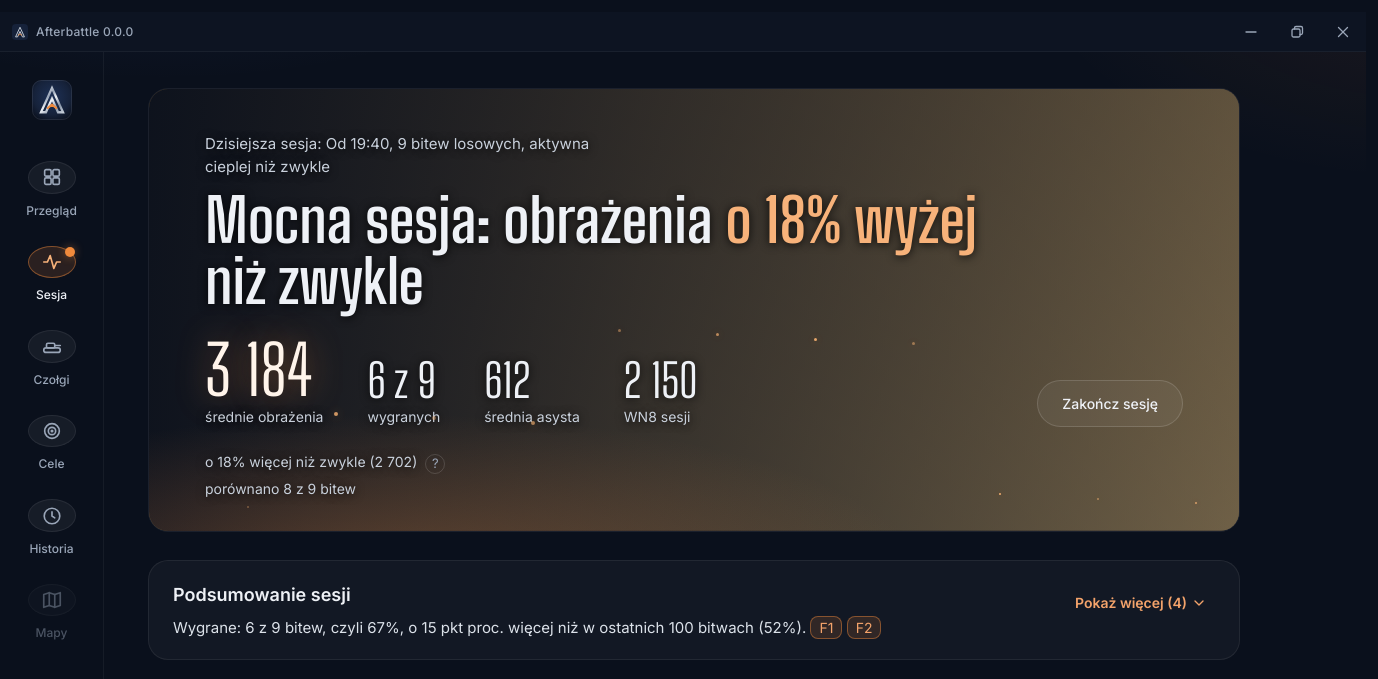
Session screen › shows only the first sentence until 'Pokaż więcej (N)' opens the rest (spec 31 §3)
The width and height of the screenshot is (1378, 679).
Expected: the element with class "recap-first" shows "9 bitew", [173,618,806,636]
Click the button "Pokaż więcej (4)": (1141, 602) [1067,580,1215,624]
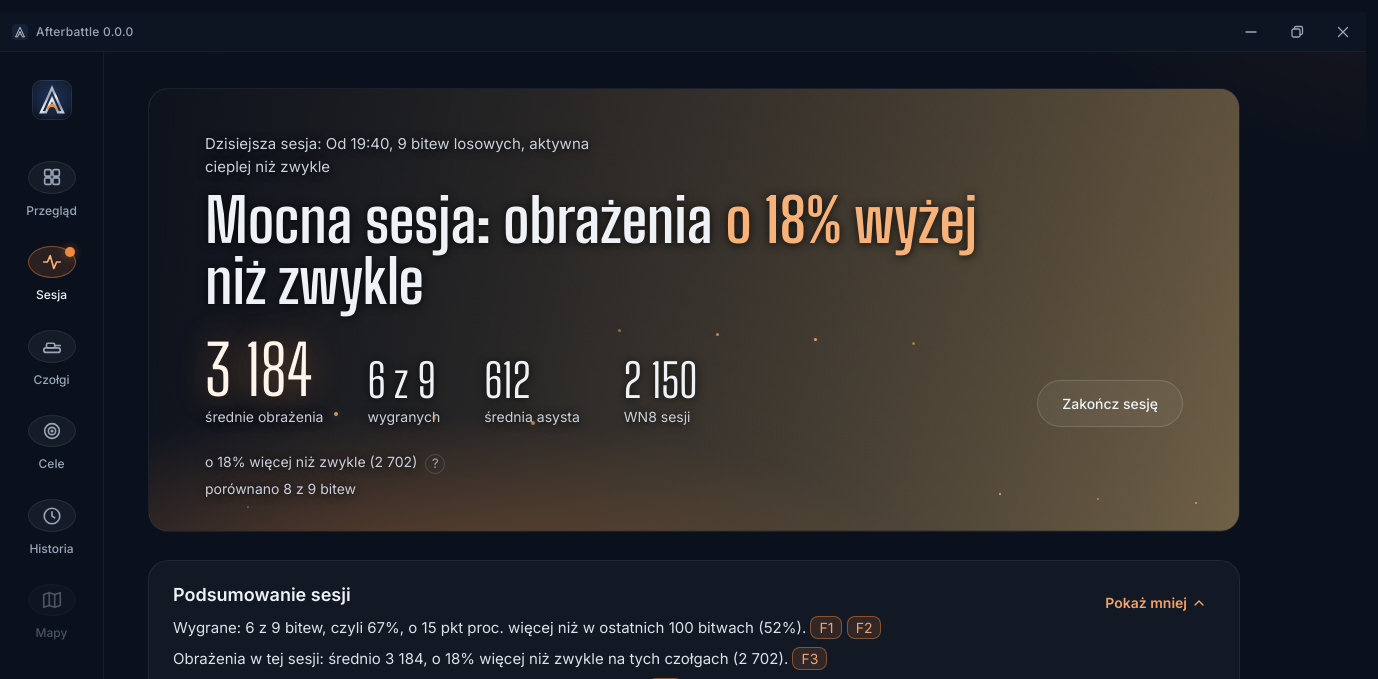
Expected: the button "Pokaż mniej" is expanded
Click the button "Pokaż mniej": (1156, 602) [1097,580,1215,624]
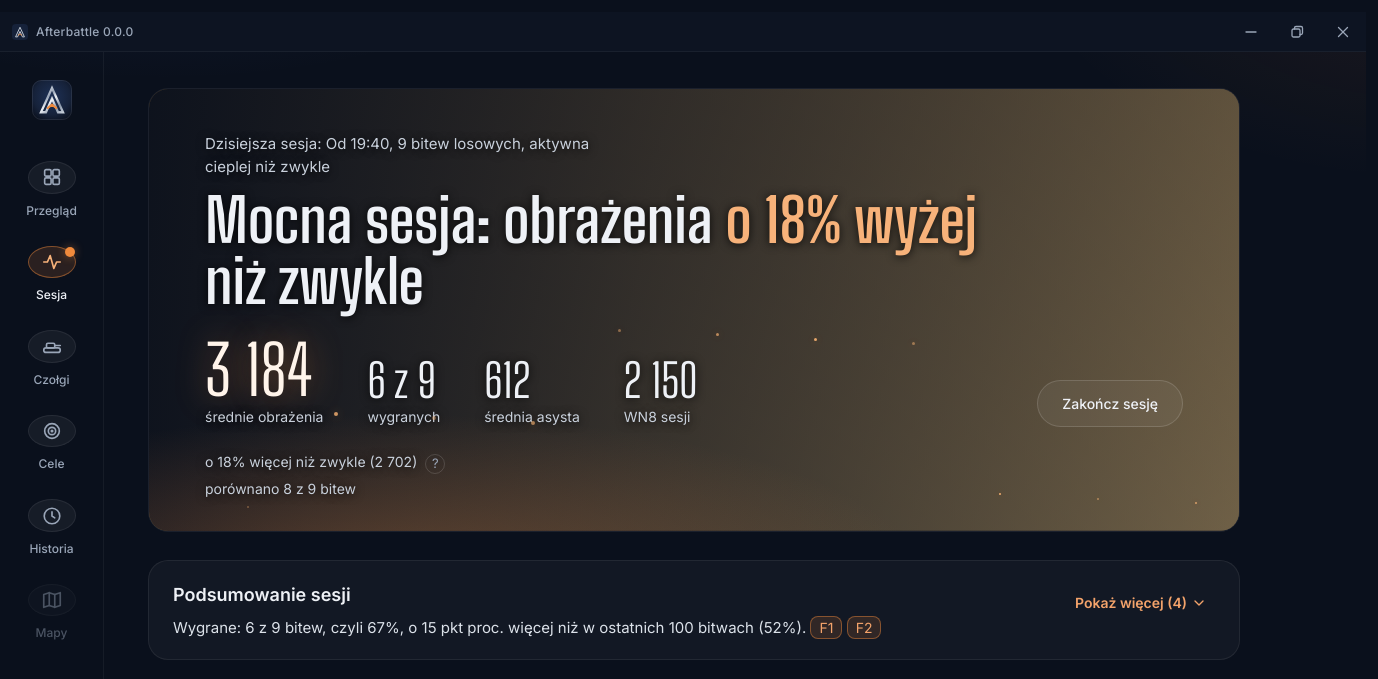
Expected: the button named "Pokaż mniej" is collapsed, [1067,580,1215,624]
